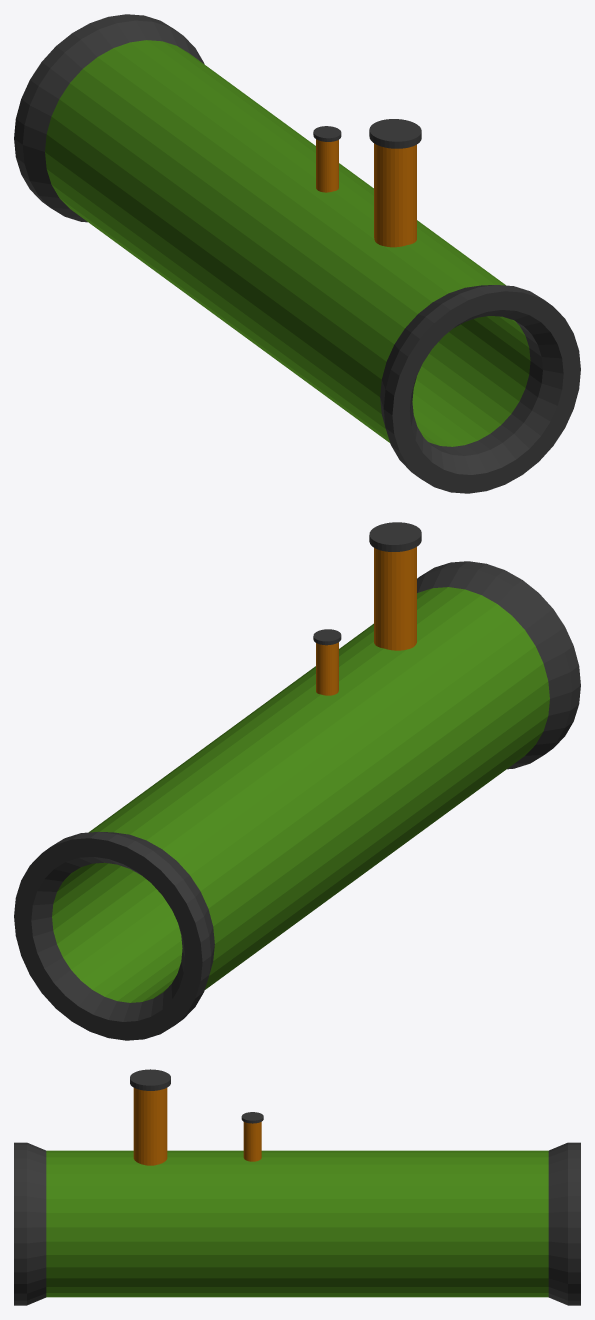
File: bazuka4.fbx
3 views of the same model, one above another, from view 1: azimuth 30°, elevation 25°; view 2: azimuth 150°, elevation 25°; view 3: azimuth 270°, elevation 25° (orthographic). The views are drawn at different scales.
Visible parts, largest first — view 1: podpatok.001; view 2: podpatok.001; view 3: podpatok.001.
Boxes of the visible parts, box(x1,y1,x2,y2) form: podpatok.001: box(14, 14, 580, 493); podpatok.001: box(14, 522, 580, 1040); podpatok.001: box(14, 1069, 580, 1305).
Size of the model in its own units: 2.22 by 3.31 by 7.72.
